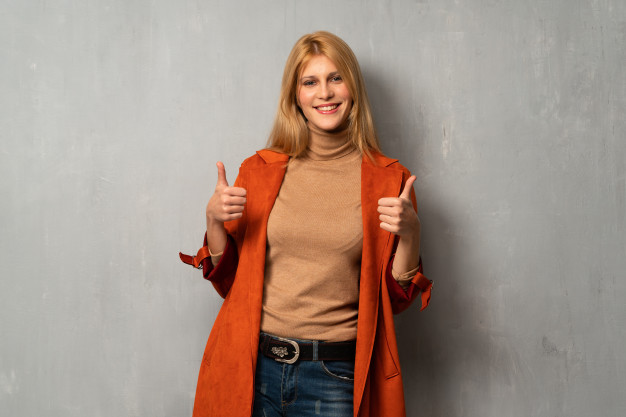thumbsup: (377, 175, 417, 233), (214, 160, 247, 221)
